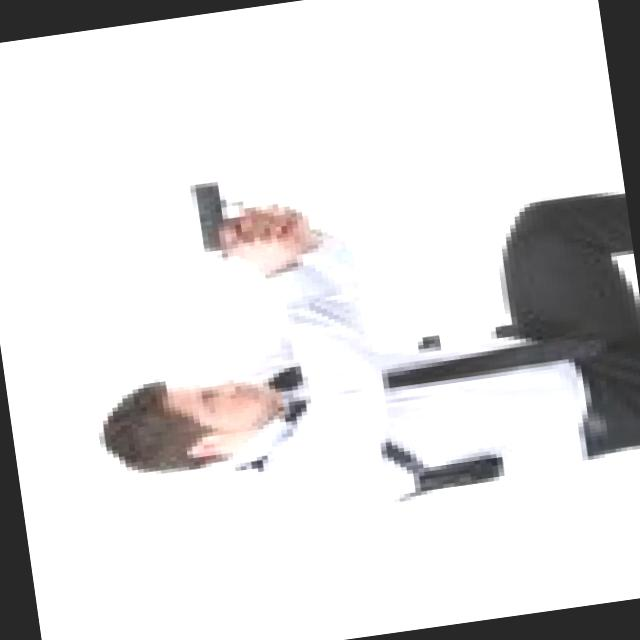handgun: (172, 175, 298, 278)
